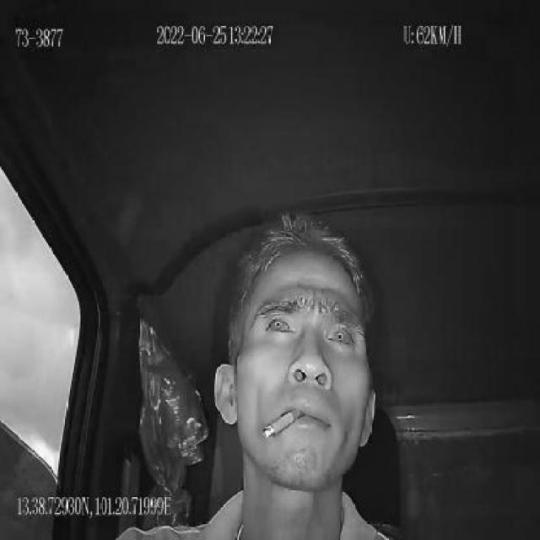smoking: (262, 406, 302, 440)
